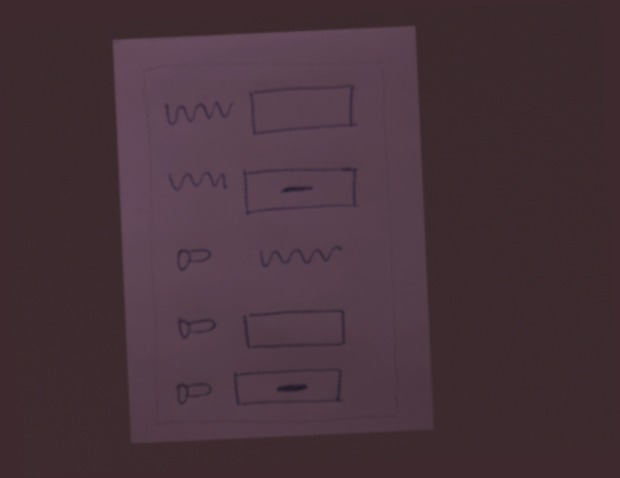button: (241, 160, 364, 220), (232, 363, 348, 414)
switch: (169, 243, 219, 278), (173, 312, 223, 346), (173, 376, 213, 408)
text: (249, 236, 348, 276), (160, 163, 238, 204), (158, 91, 235, 132)
text_input: (244, 79, 362, 141), (238, 302, 353, 358)
